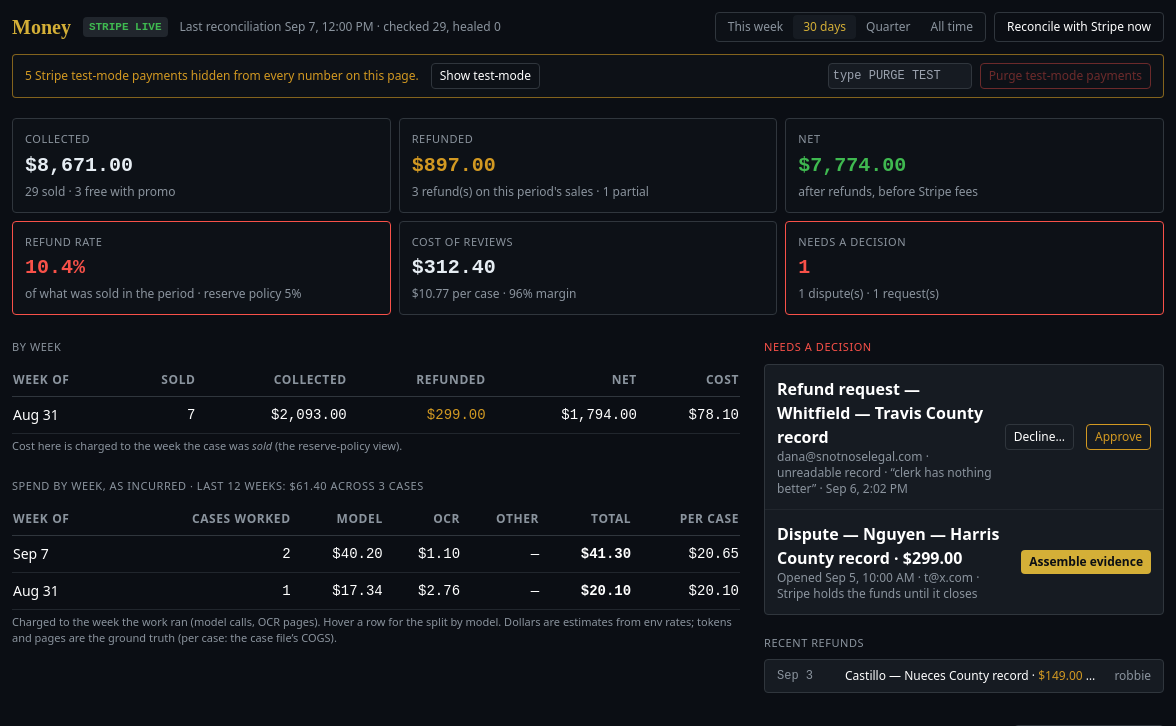
Scenario: money page › test-mode payments: hidden by default with a count, toggle re-fetches with includeTest=1, purge needs the typed phrase
Expected: the element with test id "test-mode-bar" shows "5 Stripe test-mode payments hidden", x1=25 y1=67 x2=419 y2=84
Click the button with test id "toggle-test" at (485,76), box x1=431 y1=63 x2=540 y2=89
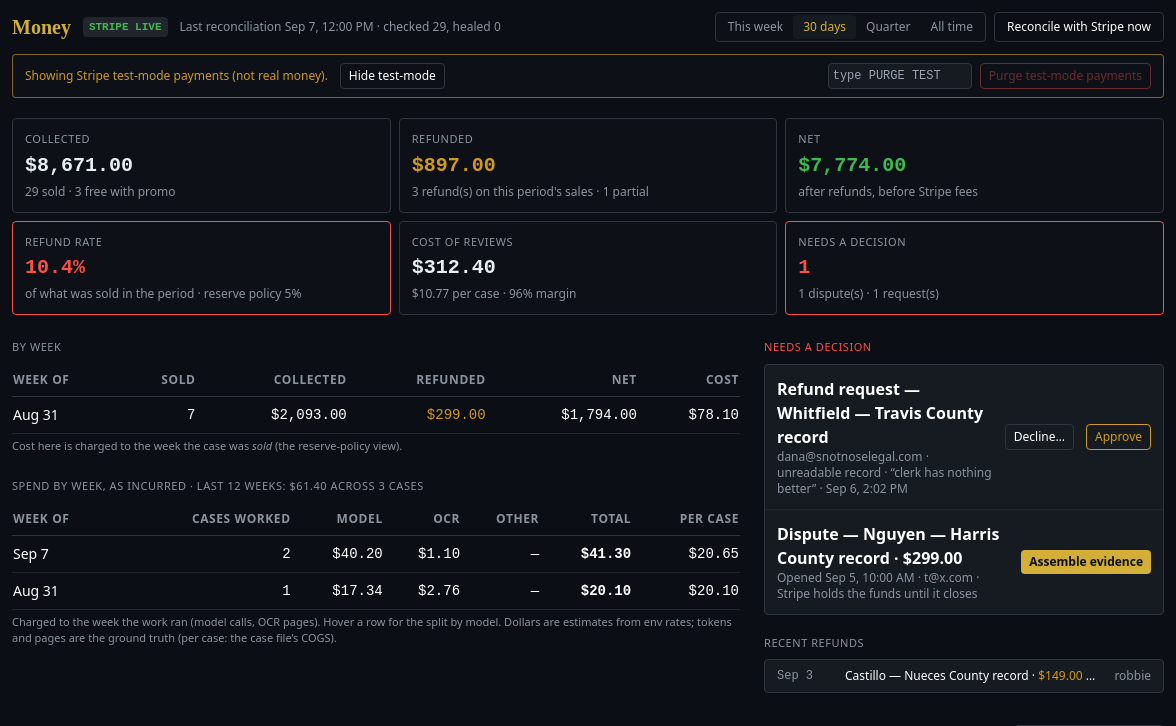
Expected: the button with test id "purge-test" is disabled, x1=980 y1=63 x2=1151 y2=89
Type "PURGE TEST" into the field named "Purge confirmation" at (900,76), box x1=828 y1=63 x2=972 y2=89
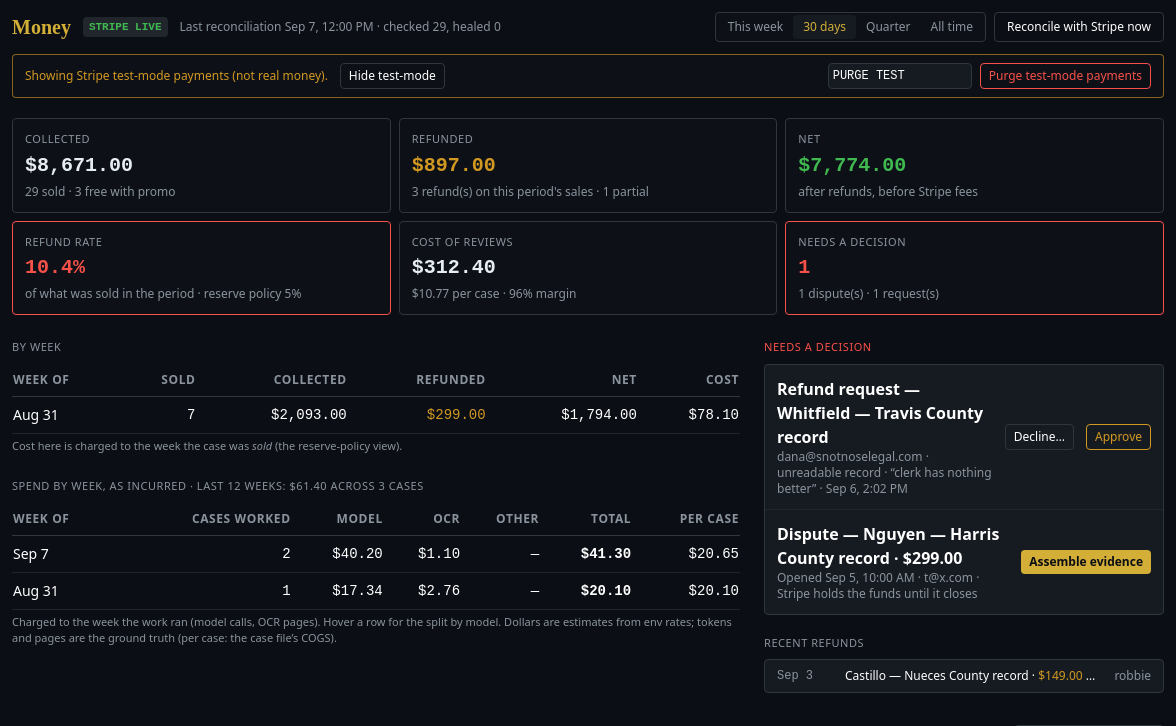
Result: the button with test id "purge-test" is enabled
Click the button with test id "purge-test" at (1065,76), box x1=980 y1=63 x2=1151 y2=89
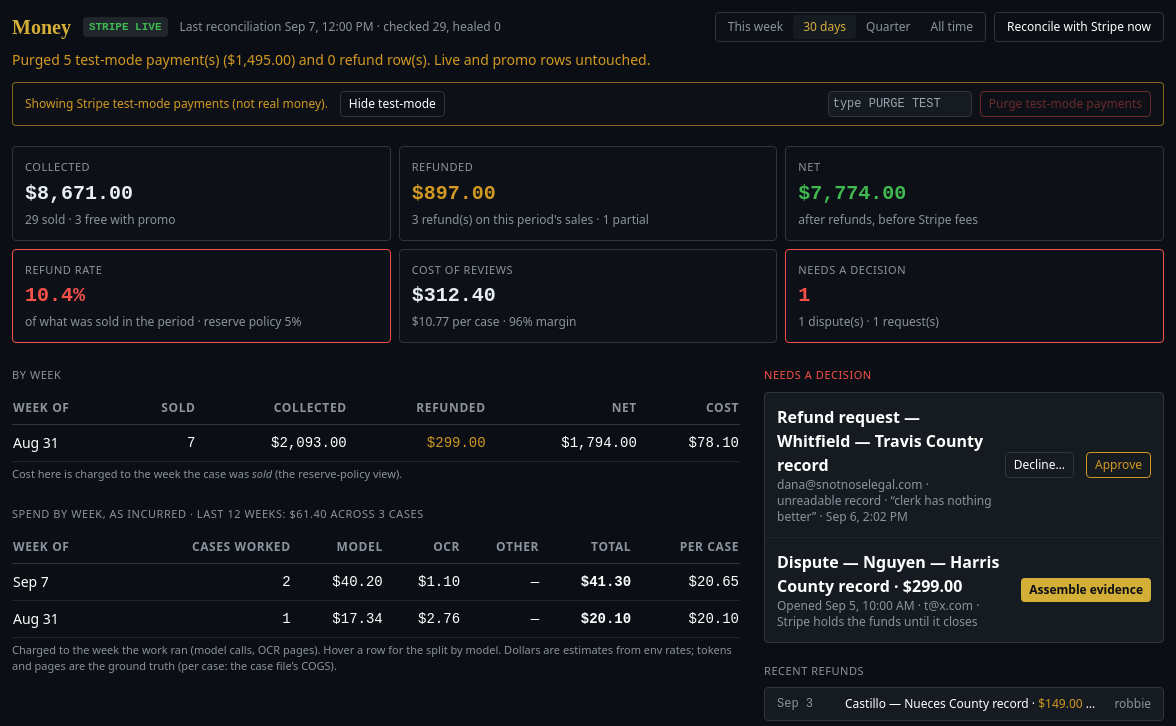
Result: the text with test id "notice" shows "Purged 5 test-mode payment(s) ($1,495.00)" at x1=12 y1=50 x2=650 y2=69
